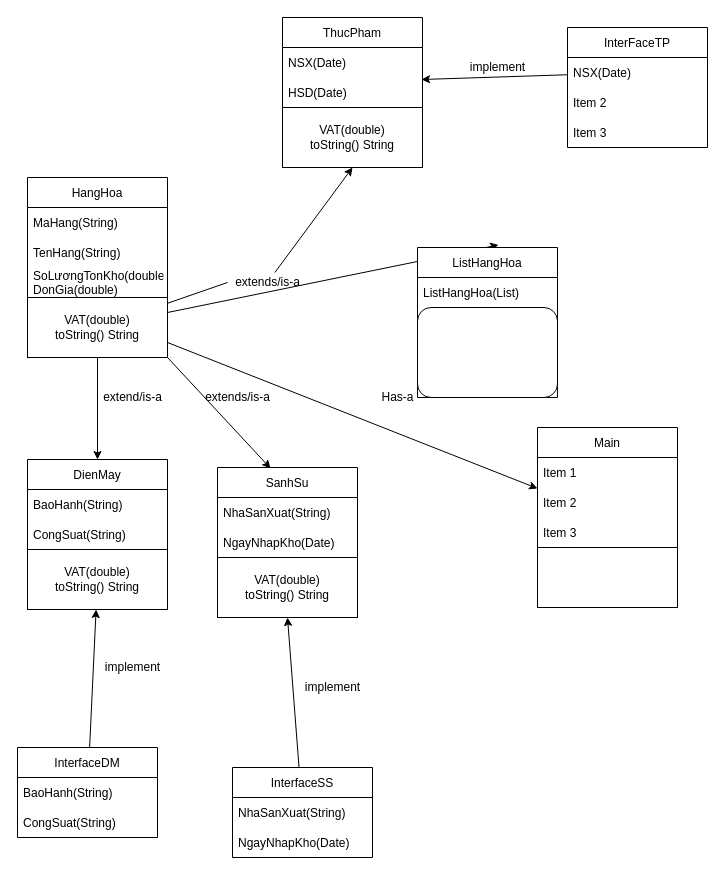
Image size: 725x875. Some labels were removed from this diagram. The shapes that lost their labels are listed below. From the top down, each one's centre as x and y in pixels, then its label:
[487,352]: ThemHangHoa(void) Xoa(hanghoa) Sửa(hanghoa) in(void) TimKiem(hanghoa)
[607,577]: Main() menu
